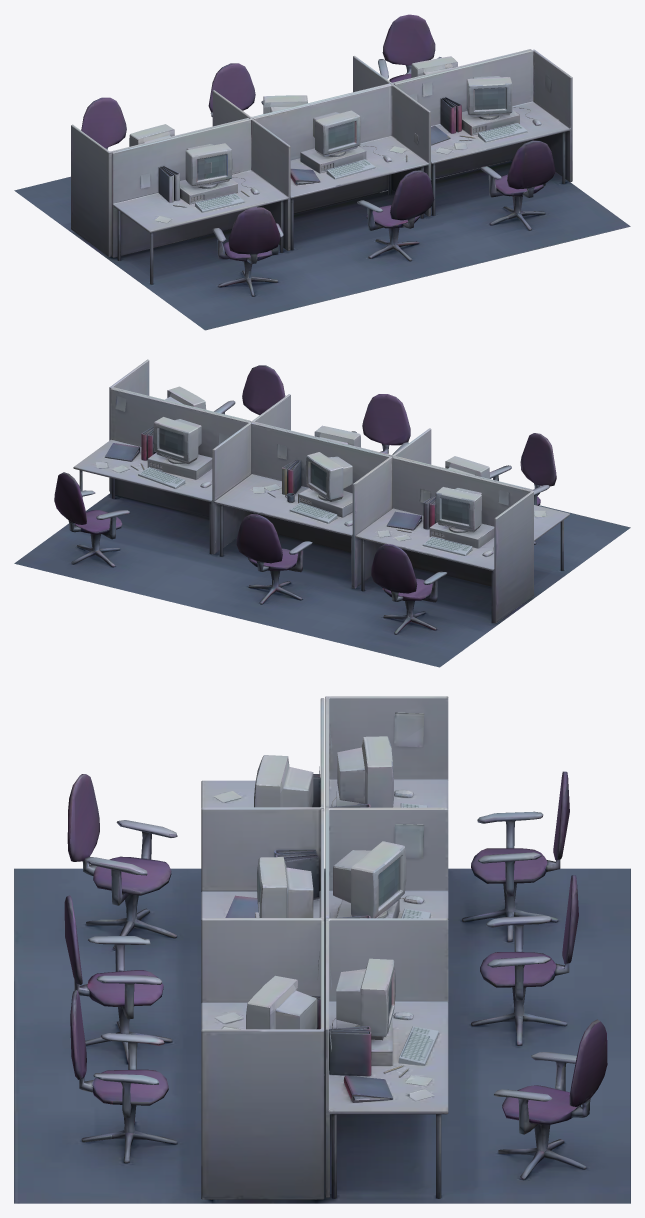
File: deskbox.glb
3 renders of one model, top to bottom at view 1: azimuth 30°, elevation 25°; view 2: azimuth 150°, elevation 25°; view 3: azimuth 270°, elevation 25°, orthographic. The views are drawn at different scales.
Visible parts, largest first — view 1: Cube, Cube.001; view 2: Cube, Cube.001; view 3: Cube, Cube.001.
Part boxes in pixels (x1,y1,x2,y2): Cube: [14, 14, 630, 330]; Cube.001: [195, 123, 527, 212]; Cube: [14, 359, 630, 667]; Cube.001: [138, 467, 472, 555]; Cube: [14, 696, 630, 1203]; Cube.001: [399, 803, 438, 1065].
Bounding box in the file's own units: 180 × 43.61 × 140.
2 materials, 2 textured.
